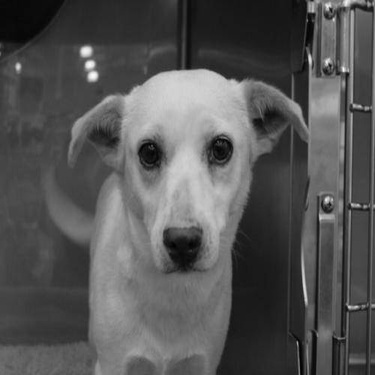dog: (33, 65, 315, 373)
